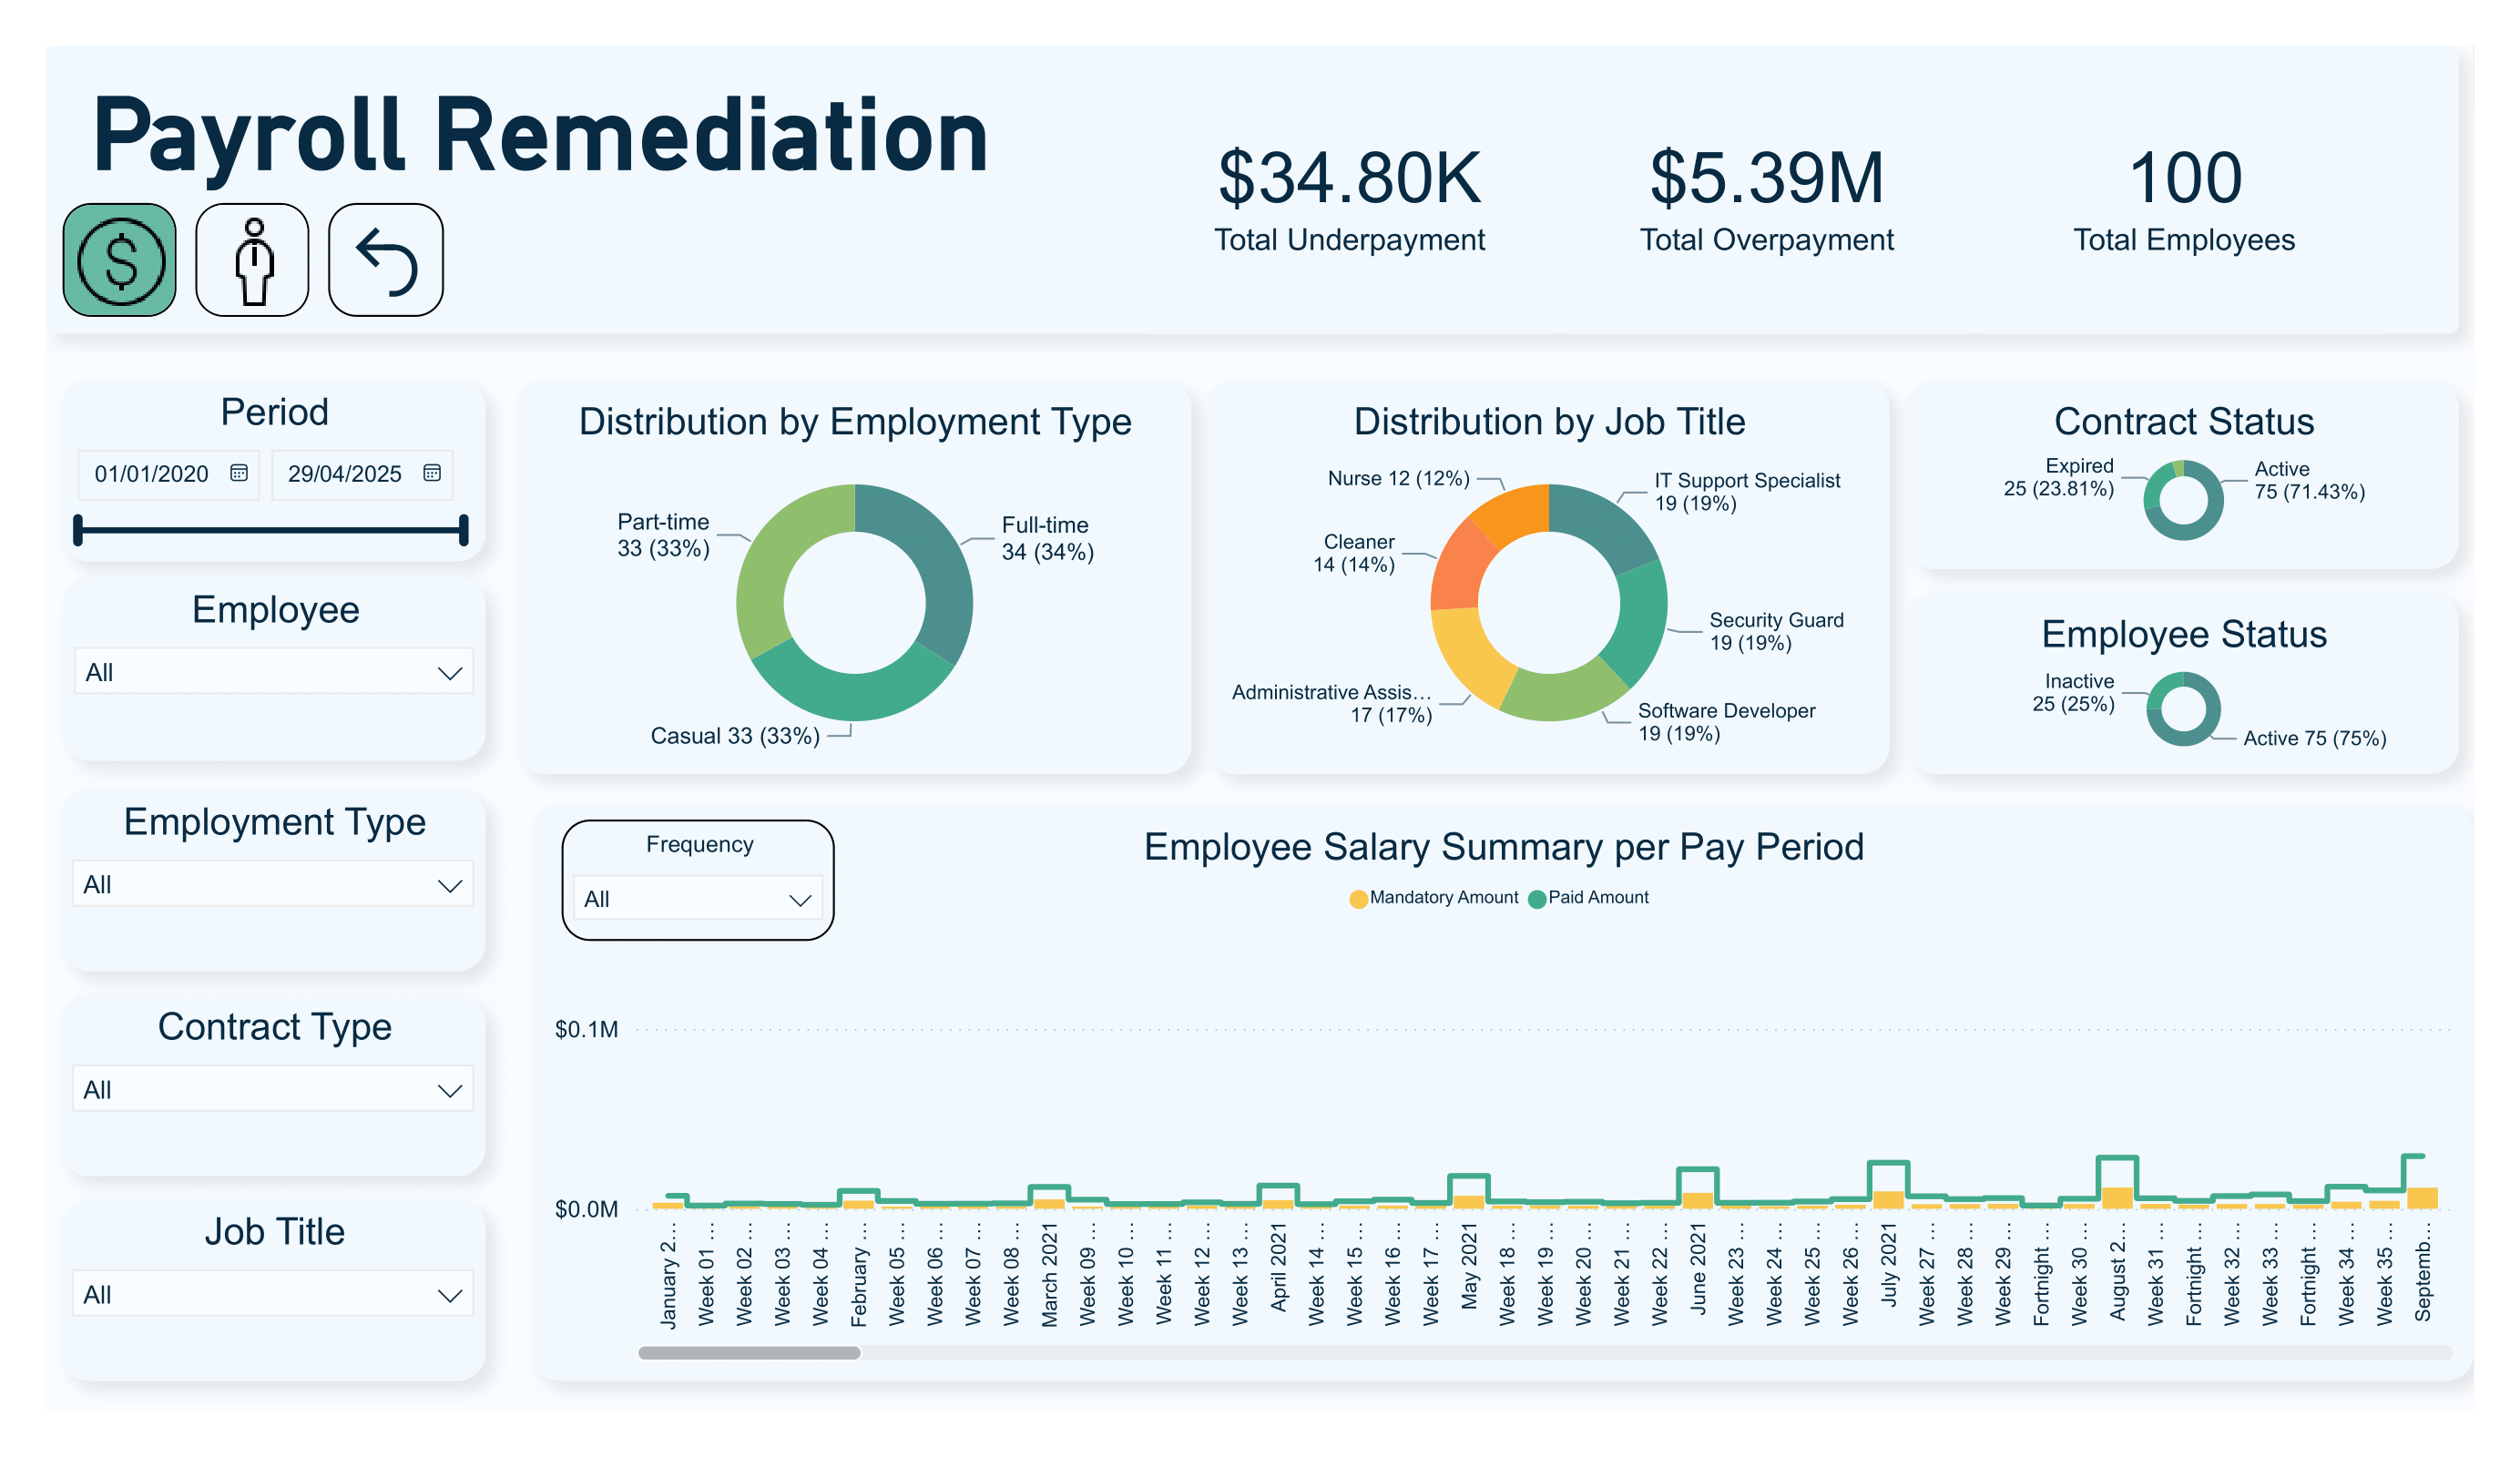

This screenshot's page, from the dashboard's own definition file:
{"tool":"powerbi","page":{"name":"Payroll Remediation","canvas":[1280,720],"ordinal":0},"visuals":[{"type":"shape","box":[0,0,1272,152],"z":0},{"type":"card","fields":{"Values":["DIM_EMPLOYEES.employee_id"]},"box":[1016.6,0,220,152.3],"z":1000},{"type":"card","fields":{"Values":["MEASURE TABLE.Total Overpayment"]},"box":[796.7,0,220,152.3],"z":2000},{"type":"card","fields":{"Values":["MEASURE TABLE.Total Underpayment 3"]},"box":[576.7,0,220,152.3],"z":3000},{"type":"slicer","title":"Period","fields":{"Values":["DIM_DATES.date"]},"box":[8,176,224,96],"z":4000},{"type":"slicer","title":"Employee","fields":{"Values":["DIM_EMPLOYEES.EMPLOYEE_FULL_NAME"]},"box":[8.8,280.3,223.6,96.4],"z":5000},{"type":"slicer","title":"Employment Type","fields":{"Values":["DIM_EMPLOYEES.current_employment_type"]},"box":[8,392,224,96],"z":6000},{"type":"slicer","title":"Contract Type","fields":{"Values":["DIM_EMPLOYEES.current_contract_type"]},"box":[8,500,224,96],"z":7000},{"type":"slicer","title":"Job Title","fields":{"Values":["DIM_EMPLOYEES.current_job_title"]},"box":[8,608,224,96],"z":8000},{"type":"lineStackedColumnComboChart","title":"Employee Salary Summary per Pay Period","fields":{"Category":["DIM_PAY_PERIODS.pay_period_label"],"Y2":["MEASURE TABLE.Paid Amount"],"Y":["MEASURE TABLE.Mandatory Amount"]},"box":[256,400,1024,304],"z":9000},{"type":"donutChart","title":"Distribution by Employment Type","fields":{"Y":["MEASURE TABLE.Employment Count"],"Category":["DIM_EMPLOYEES.current_employment_type"]},"box":[247.9,175.8,356,208.2],"z":10000},{"type":"donutChart","title":"Distribution by Job Title","fields":{"Y":["MEASURE TABLE.Employment Count"],"Category":["DIM_EMPLOYEES.Current Job Title"]},"box":[612,175.8,359.7,208.2],"z":11000},{"type":"donutChart","title":"Contract Status","fields":{"Category":["DIM_CONTRACTS.contract_status"],"Y":["DIM_CONTRACTS.contract_status"]},"box":[981.3,175.8,290.6,100],"z":12000},{"type":"donutChart","title":"Employee Status","fields":{"Category":["DIM_EMPLOYEES.employee_status"],"Y":["DIM_EMPLOYEES.employee_status"]},"box":[981.3,288.4,290.6,95.6],"z":13000},{"type":"textbox","box":[24,16,488,64],"z":14000},{"type":"actionButton","box":[8.8,83.1,60.3,60.3],"z":15000},{"type":"actionButton","box":[79.1,83.1,60.3,60.3],"z":16000},{"type":"actionButton","box":[149.3,83.1,60.3,60.3],"z":17000},{"type":"slicer","title":"Frequency","fields":{"Values":["DIM_PAY_PERIODS.frequency"]},"box":[272,408,144,64],"z":18000}]}

Visuals, with their boxes on the page's 1280x720 design canvas (x1, y1, x2, y2). These are canvas units, not pixel positions in the 2520x1457 screenshot, which may show the page scaled, cropped or inside an application window:
shape: 0/0/1272/152
card - DIM_EMPLOYEES.employee_id: 1017/0/1237/152
card - MEASURE TABLE.Total Overpayment: 797/0/1017/152
card - MEASURE TABLE.Total Underpayment 3: 577/0/797/152
"Period" slicer: 8/176/232/272
"Employee" slicer: 9/280/232/377
"Employment Type" slicer: 8/392/232/488
"Contract Type" slicer: 8/500/232/596
"Job Title" slicer: 8/608/232/704
"Employee Salary Summary per Pay Period" lineStackedColumnComboChart: 256/400/1280/704
"Distribution by Employment Type" donutChart: 248/176/604/384
"Distribution by Job Title" donutChart: 612/176/972/384
"Contract Status" donutChart: 981/176/1272/276
"Employee Status" donutChart: 981/288/1272/384
textbox: 24/16/512/80
actionButton: 9/83/69/143
actionButton: 79/83/139/143
actionButton: 149/83/210/143
"Frequency" slicer: 272/408/416/472
